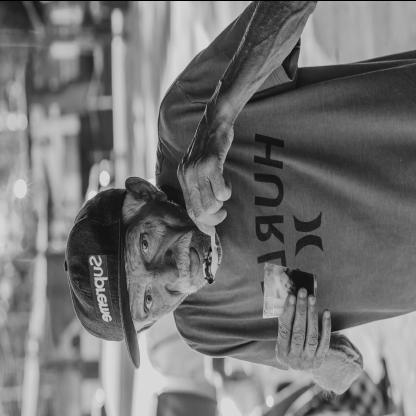Eye: (137, 228, 155, 263), (142, 287, 156, 317)
Mouth: (185, 242, 203, 290)
Nose: (152, 250, 182, 292)
